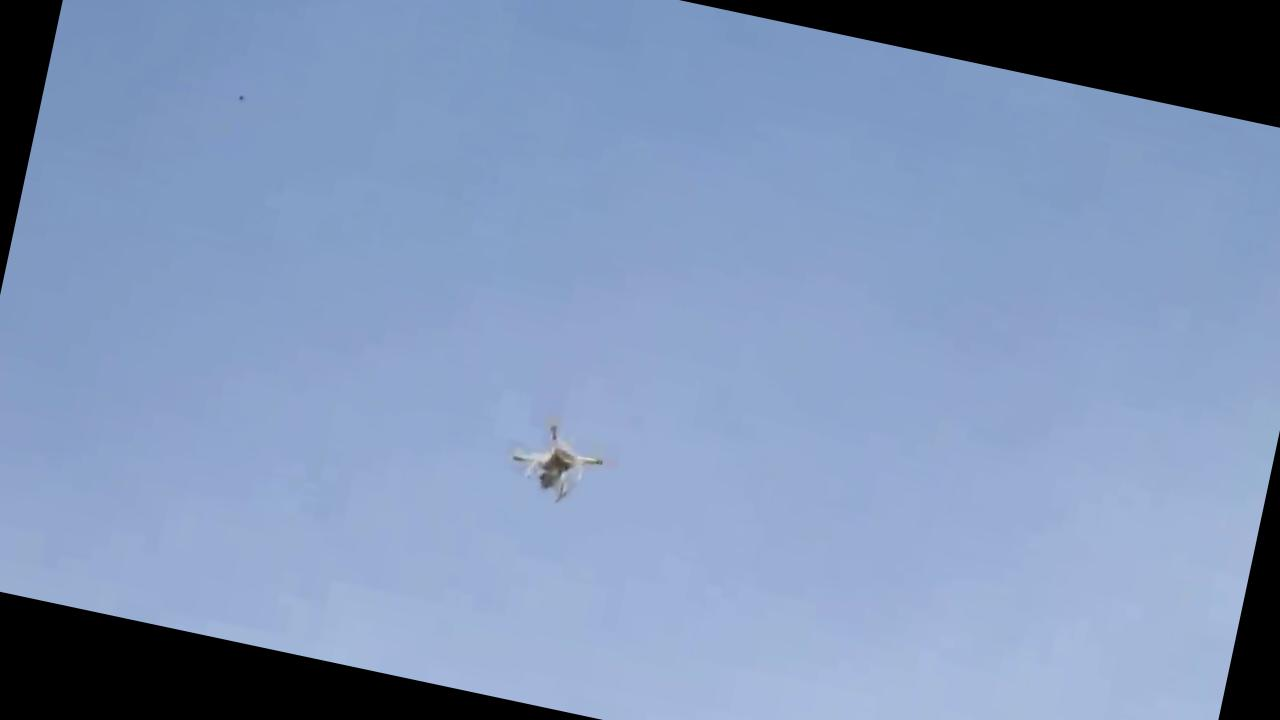drone: (494, 403, 632, 518)
